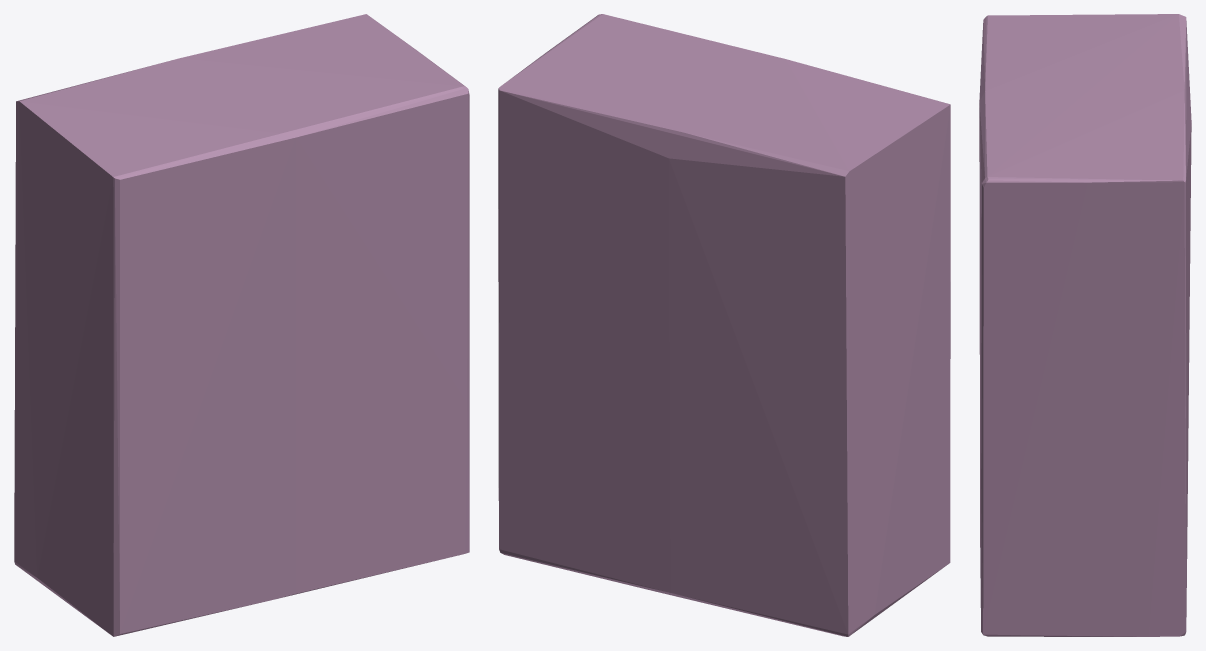
The model's file is box_printer_brown_b03.glb.
The picture shows the model from 3 angles, left to right: view 1: azimuth 30°, elevation 25°; view 2: azimuth 150°, elevation 25°; view 3: azimuth 270°, elevation 25°; orthographic projection. The views are drawn at different scales.
Parts seen in each view (by area): view 1: geometry_0; view 2: geometry_0; view 3: geometry_0.
Part boxes in pixels (x1=…): geometry_0: x1=14, y1=14, x2=469, y2=636; geometry_0: x1=498, y1=14, x2=950, y2=636; geometry_0: x1=979, y1=14, x2=1191, y2=636.
Bounding box in the file's own units: 0.3794 × 0.4794 × 0.2006.
